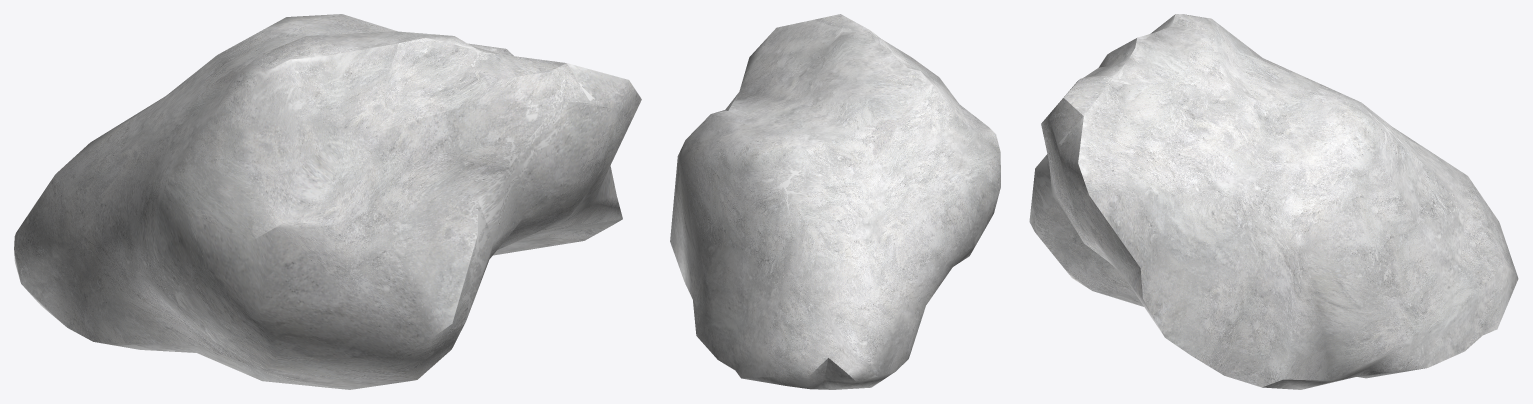
Rendered from rock_00F_lp.fbx.
The picture shows the model from 3 angles, left to right: view 1: azimuth 30°, elevation 25°; view 2: azimuth 150°, elevation 25°; view 3: azimuth 270°, elevation 25°; orthographic projection. The views are drawn at different scales.
Parts seen in each view (by area): view 1: rock_00F_lp; view 2: rock_00F_lp; view 3: rock_00F_lp.
Boxes of the visible parts, <box> form: rock_00F_lp: <box>14,14,641,389</box>; rock_00F_lp: <box>670,14,1000,389</box>; rock_00F_lp: <box>1029,14,1518,389</box>.
Size of the model in its own units: 174 by 137 by 205.
